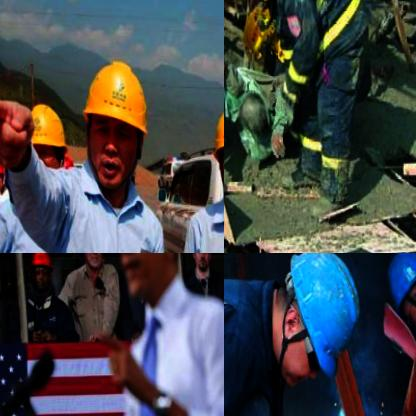helmet: (269, 253, 365, 383), (80, 58, 158, 195), (21, 98, 64, 176), (378, 253, 416, 329), (202, 97, 224, 202), (26, 253, 53, 296), (186, 253, 214, 273), (79, 253, 103, 269)
